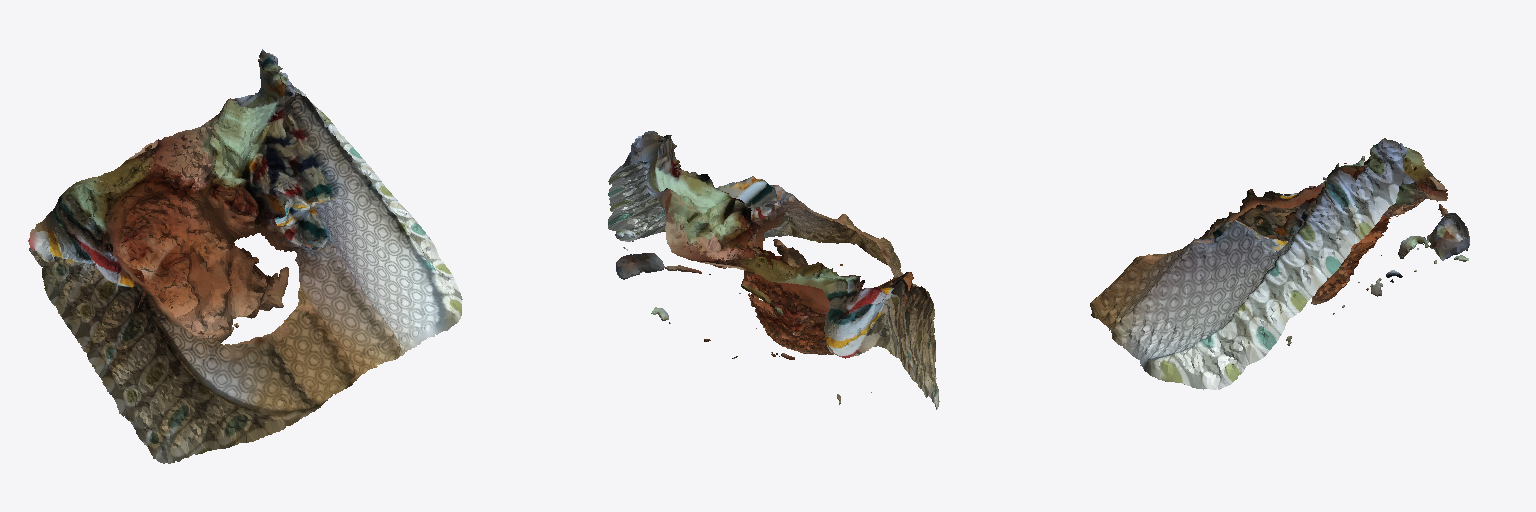
The picture shows the model from 3 angles: view 1: azimuth 30°, elevation 25°; view 2: azimuth 150°, elevation 25°; view 3: azimuth 270°, elevation 25°; orthographic projection.
Parts seen in each view (by area): view 1: day7_10am; view 2: day7_10am; view 3: day7_10am.
Part boxes in pixels (bbox=[...]): day7_10am: bbox=[28, 49, 462, 463]; day7_10am: bbox=[608, 131, 939, 409]; day7_10am: bbox=[1090, 138, 1469, 389].
Bounding box in the file's own units: 31.15 × 25.35 × 29.7.
1 materials, 1 textured.